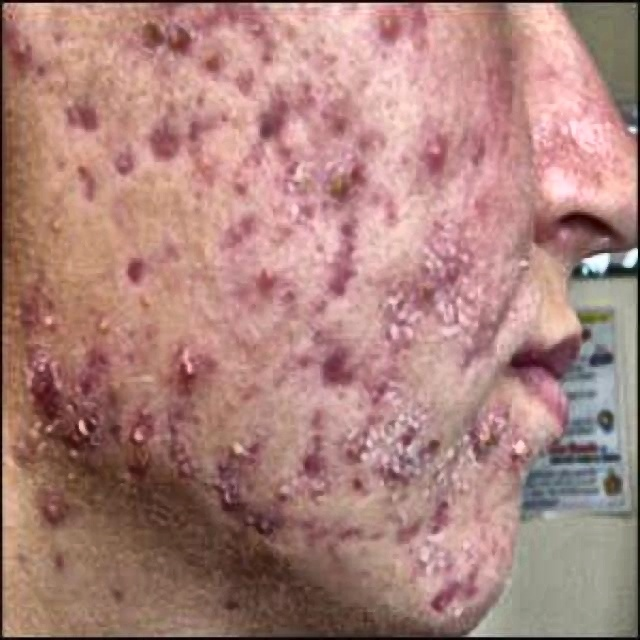nodule: (173, 339, 226, 400), (115, 238, 169, 296), (202, 468, 252, 529), (433, 574, 489, 628), (117, 5, 162, 66), (224, 2, 284, 46), (79, 354, 128, 400), (232, 506, 280, 549), (241, 101, 292, 139), (215, 425, 252, 476), (183, 106, 222, 154), (322, 248, 354, 306), (309, 342, 346, 392), (414, 491, 448, 544), (271, 200, 316, 240), (343, 448, 382, 490), (399, 420, 442, 458), (260, 250, 294, 298), (26, 304, 68, 342), (294, 463, 331, 506), (330, 159, 360, 210), (56, 402, 86, 453), (232, 58, 271, 96), (311, 101, 352, 137), (416, 124, 446, 172), (113, 425, 145, 470), (450, 126, 487, 164), (280, 344, 312, 387), (282, 78, 320, 114), (442, 309, 476, 349), (472, 395, 502, 440), (356, 390, 384, 438), (367, 0, 407, 33), (143, 121, 171, 167), (6, 25, 36, 66), (266, 476, 300, 511), (218, 210, 245, 253), (320, 210, 350, 248), (168, 15, 190, 66), (56, 99, 88, 134), (388, 504, 414, 546), (199, 38, 226, 78), (399, 271, 429, 306), (107, 142, 134, 180), (171, 450, 198, 488), (41, 494, 68, 532), (222, 170, 252, 202), (280, 154, 305, 192), (382, 316, 412, 347), (24, 354, 49, 390), (506, 428, 529, 466), (162, 420, 190, 450), (13, 427, 36, 463), (371, 180, 388, 225), (96, 304, 119, 336), (81, 157, 98, 197), (439, 270, 461, 294), (388, 463, 408, 488)
